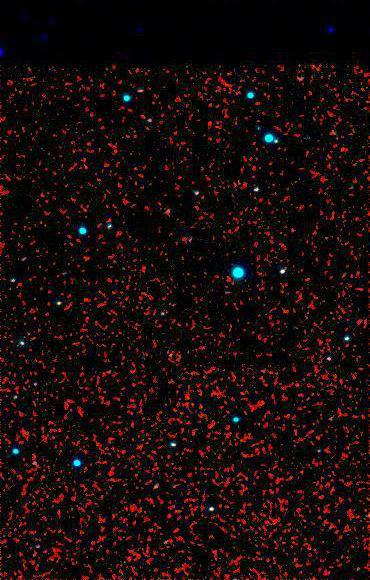star: (156, 342, 186, 372)
